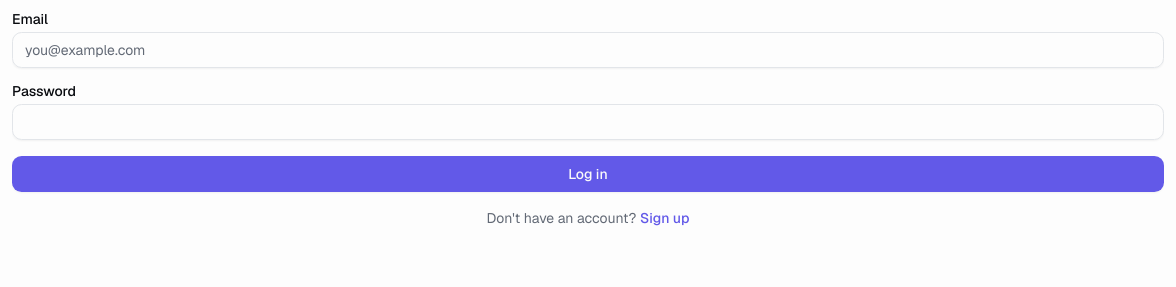
LoginForm › shows validation errors for an invalid email and empty password
The width and height of the screenshot is (1176, 287).
In the field labelled "Email": (588, 50) [12,32,1164,68], type "not-an-email"
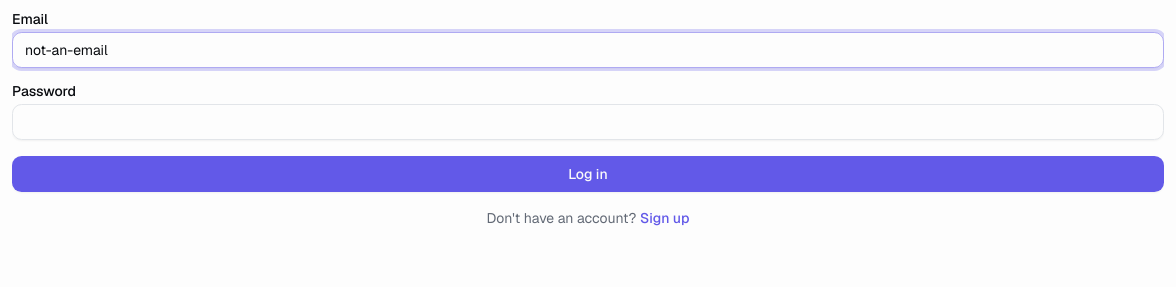
Click the button "Log in": (588, 174) [12,156,1164,192]
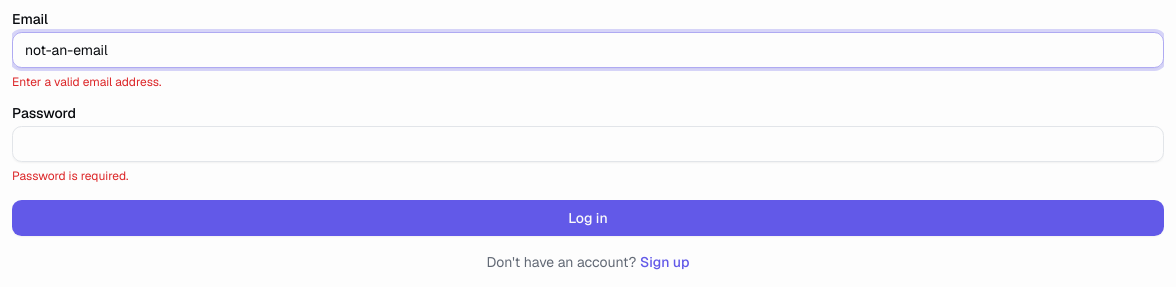
Check: the text "Enter a valid email address." is shown, box [12,74,162,90]
